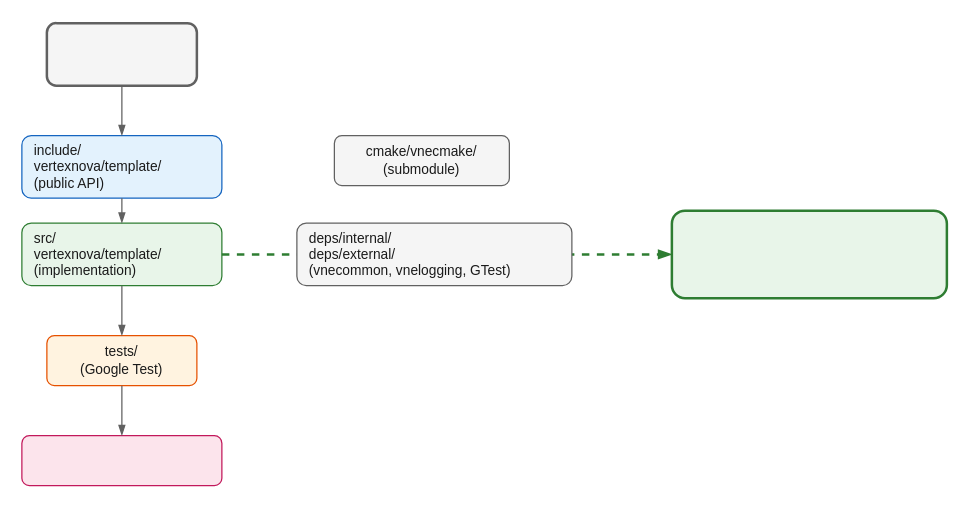
The diagram is 970 pixels wide and 508 high, and some of its shapes have lost their labels. The shapes that lost their labels are listed below. From the top down, each one's box as (x1, y1, x2, y2) in pixels, then its label:
(45, 21, 198, 86): vnetemplate/ (root)
(670, 209, 948, 299): CMake configure + build → libvnetemplate.a → tests, examples
(21, 434, 222, 486): examples/ (01_hello_template)
